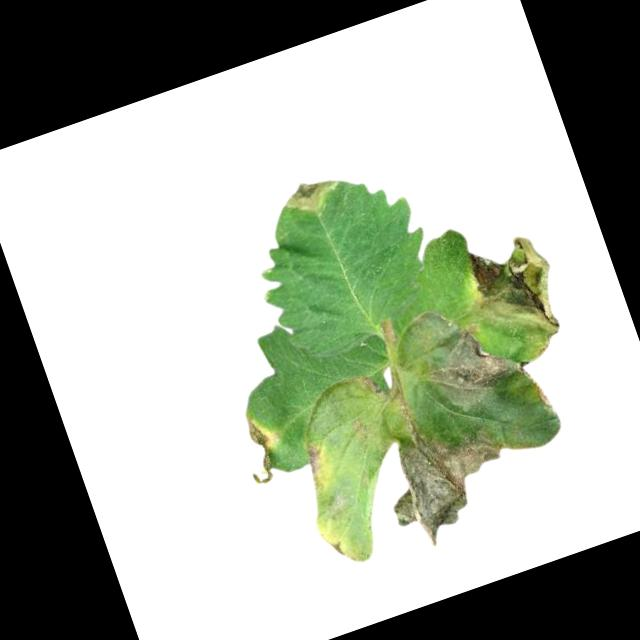Late_blight: (371, 408, 515, 556), (452, 225, 579, 372), (403, 291, 524, 419), (233, 411, 291, 487), (276, 170, 343, 217), (516, 360, 555, 414), (299, 439, 330, 480), (357, 370, 389, 407)
